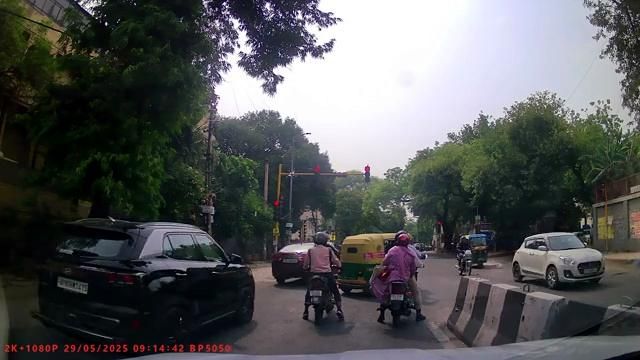motorcycle_with_helmet: (300, 230, 346, 325)
passenger_with_helmet: (371, 229, 426, 327)
